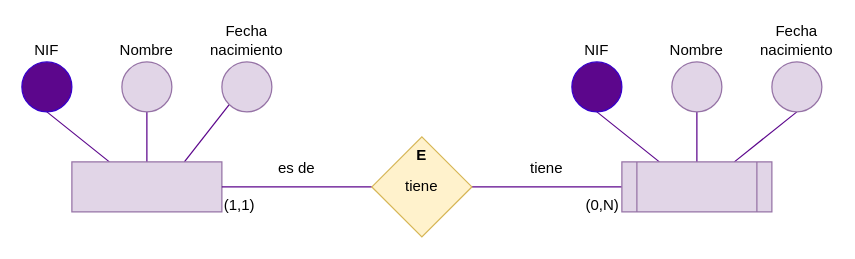
Image size: 855x259. Some labels were removed from this diagram. Each missing label, with the centre of its shape:
"Empleado" goes at point 146,186.
"Hijo" goes at point 696,186.
